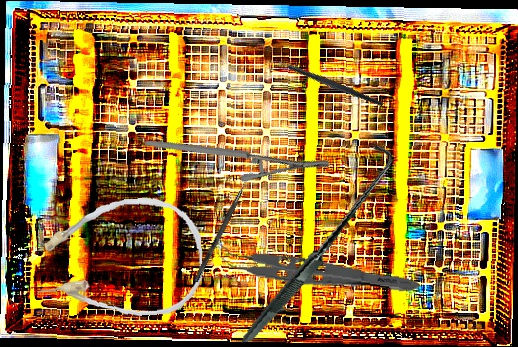Cannula: (32, 194, 206, 323)
Chopper: (266, 26, 385, 142)
Hook Surgical: (208, 143, 422, 344), (193, 167, 255, 283)
Needle Holder: (143, 84, 333, 222)
Tissue Forceps: (214, 241, 423, 297)
